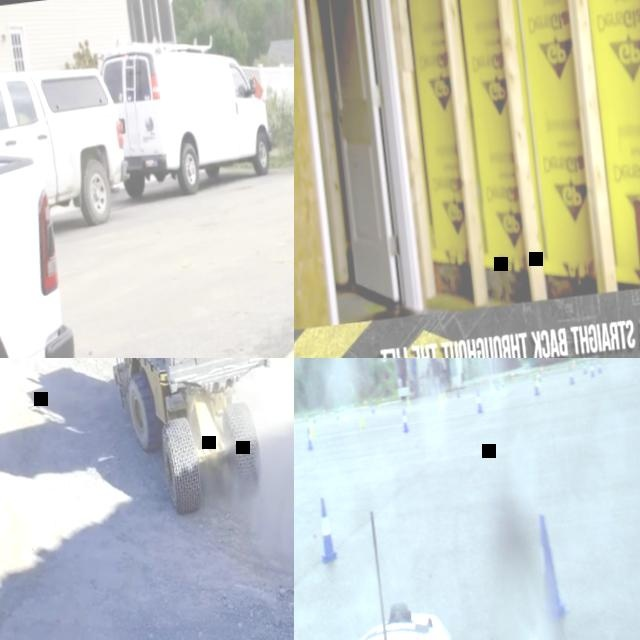Safety Cone: (527, 512, 570, 626), (313, 495, 338, 563), (399, 408, 410, 434), (304, 427, 314, 450), (474, 390, 483, 414), (566, 363, 575, 386), (531, 375, 540, 397), (498, 376, 506, 397), (587, 359, 595, 379), (357, 409, 364, 429), (437, 394, 444, 412), (594, 358, 601, 376), (309, 420, 314, 437), (581, 361, 587, 375), (535, 371, 540, 386), (494, 378, 499, 392), (405, 396, 410, 410), (570, 358, 576, 369), (489, 380, 494, 393), (455, 386, 460, 399), (441, 390, 446, 403), (304, 414, 309, 427), (334, 409, 339, 421), (344, 408, 348, 422), (539, 364, 544, 375), (376, 404, 381, 415), (370, 403, 375, 414), (537, 370, 541, 383), (510, 371, 515, 381), (311, 412, 315, 423), (380, 396, 384, 405), (363, 400, 367, 408), (321, 407, 325, 415), (349, 400, 353, 408), (613, 358, 619, 361)
machinery: (103, 358, 294, 535)
vehicle: (96, 27, 277, 207), (0, 60, 131, 241), (0, 134, 97, 358)
